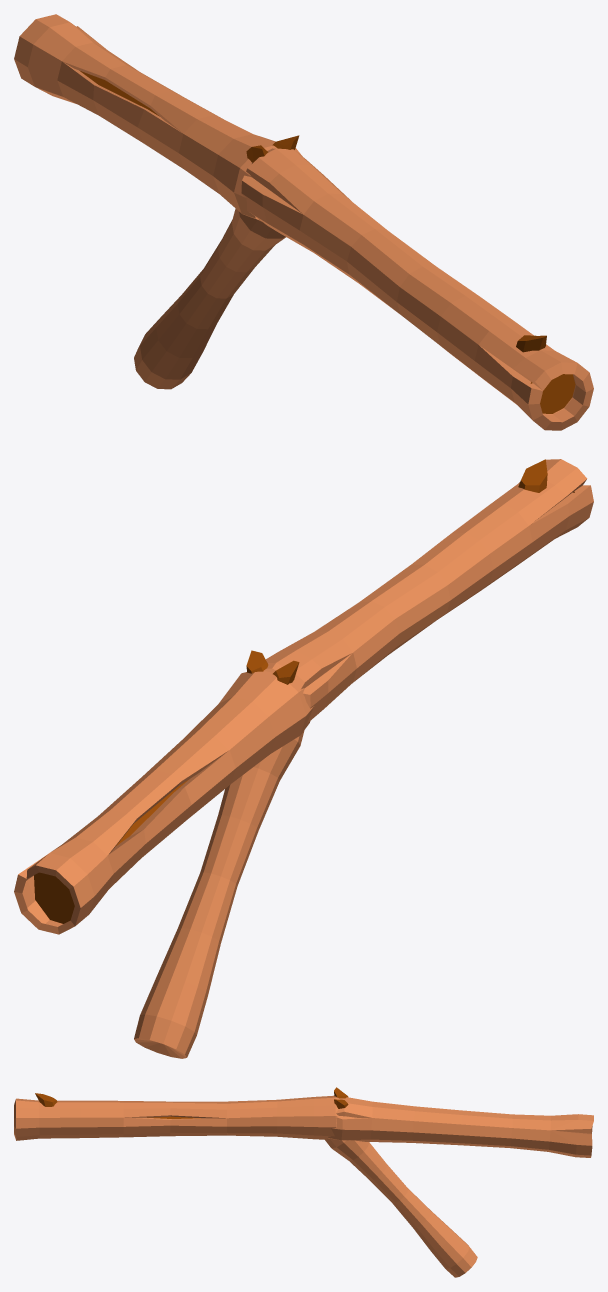
The model's file is Пистолет_5_Цвет.fbx.
The picture shows the model from 3 angles, top to bottom: view 1: azimuth 30°, elevation 25°; view 2: azimuth 150°, elevation 25°; view 3: azimuth 270°, elevation 25°; orthographic projection. The views are drawn at different scales.
Visible parts, largest first — view 1: Тор.001, Тор, Тор.002, Плоскость.001; view 2: Тор.001, Тор, Тор.002, Плоскость, Цилиндр.002; view 3: Тор.001, Тор, Тор.002.
Part boxes in pixels (x1=…): Тор.001: x1=241, y1=148, x2=593, y2=430; Тор: x1=14, y1=14, x2=302, y2=221; Тор.002: x1=134, y1=208, x2=285, y2=389; Плоскость.001: x1=530, y1=374, x2=575, y2=413; Тор.001: x1=265, y1=459, x2=593, y2=723; Тор: x1=14, y1=668, x2=313, y2=934; Тор.002: x1=134, y1=730, x2=304, y2=1058; Плоскость: x1=34, y1=872, x2=74, y2=923; Цилиндр.002: x1=246, y1=650, x2=299, y2=684; Тор.001: x1=14, y1=1095, x2=340, y2=1140; Тор: x1=328, y1=1097, x2=593, y2=1157; Тор.002: x1=325, y1=1138, x2=477, y2=1277.
Size of the model in its own units: 201 by 861 by 2482.
